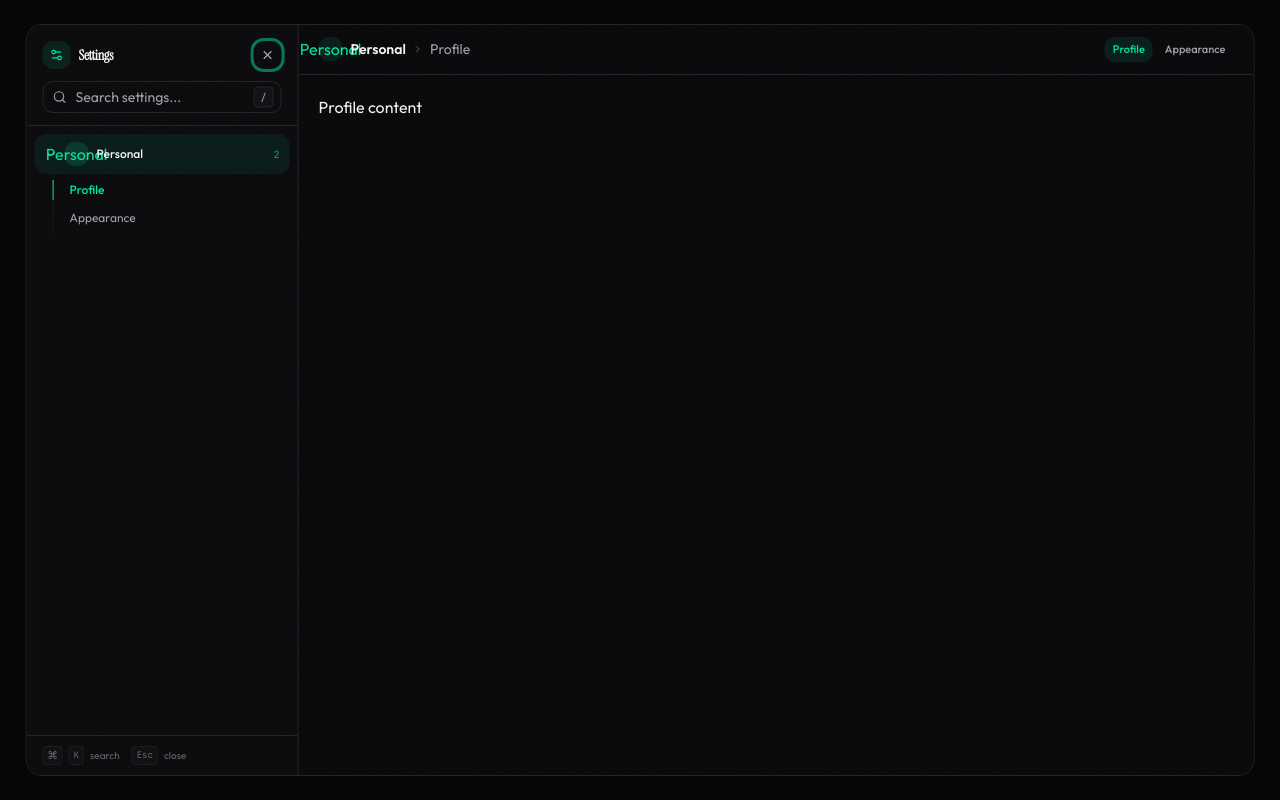
SettingsDialog › switches sections within the active concern through the derived requested section id
Check: the text "Profile content" is shown, box [319,96,422,116]
Click the 2nd button "Appearance" at (172, 218), box [54,204,290,232]
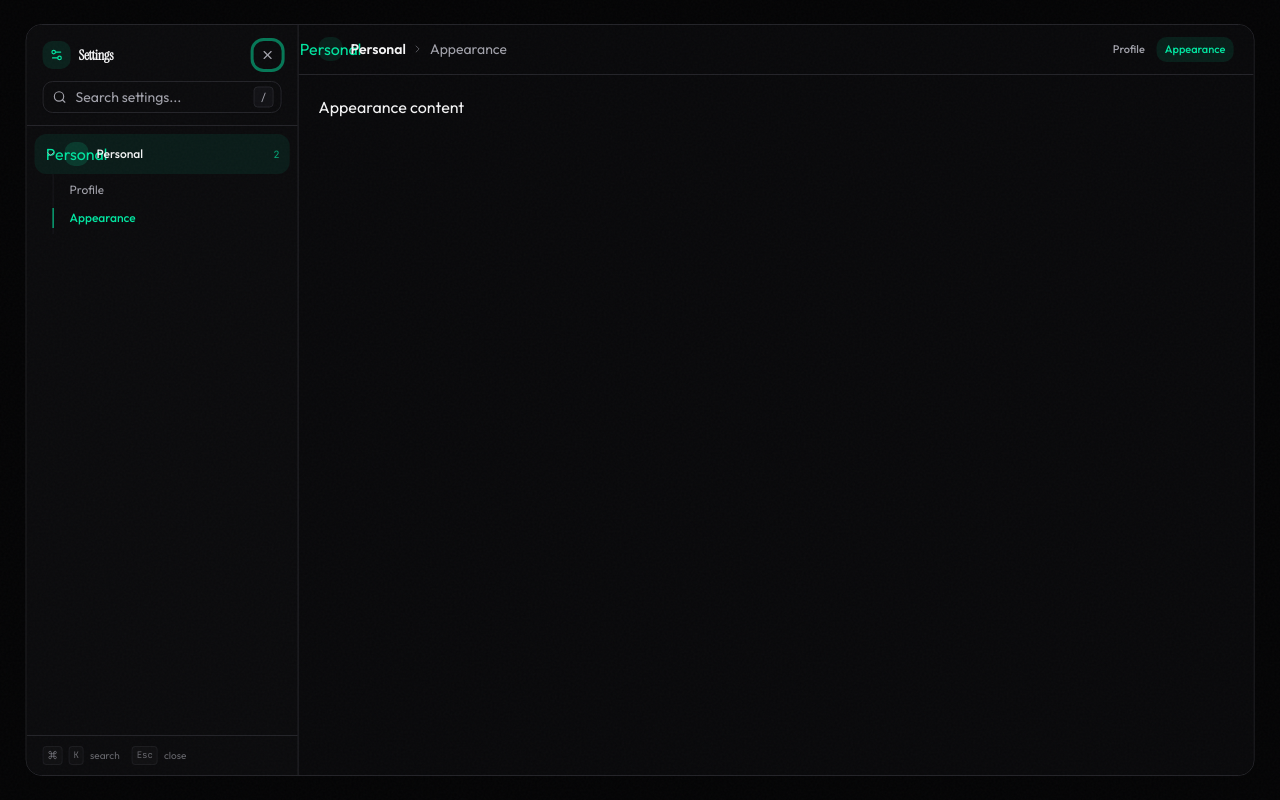
Check: the text "Appearance content" is shown, box [319,96,464,116]
Check: the text "Profile content" is gone
